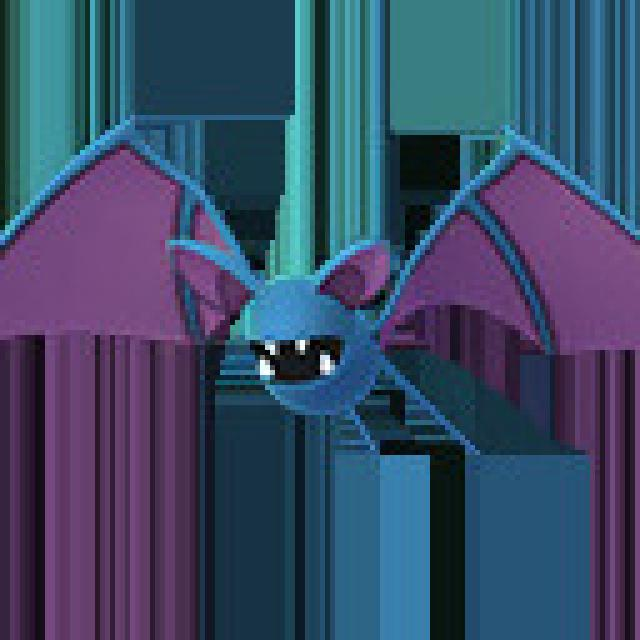Zubat: (115, 116, 540, 476)
